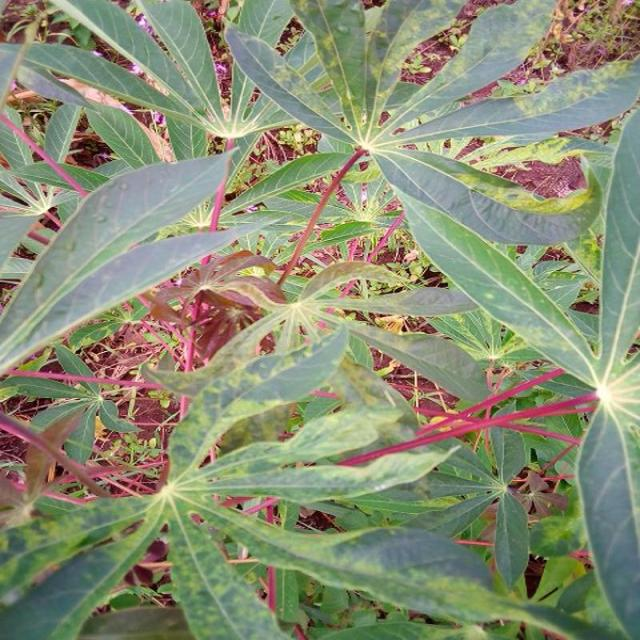cassava leaf: (2, 0, 640, 638), (2, 144, 239, 375)
